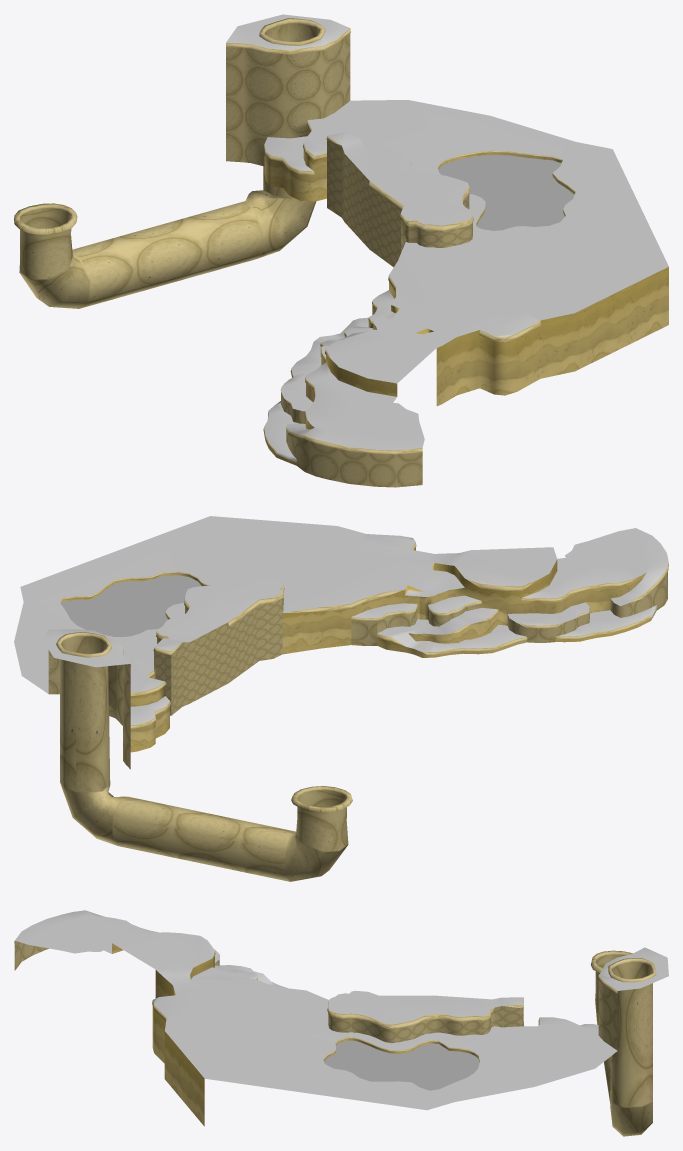
Rendered from huge mesh mesh.fbx.
The picture shows the model from 3 angles, top to bottom: view 1: azimuth 30°, elevation 25°; view 2: azimuth 150°, elevation 25°; view 3: azimuth 270°, elevation 25°; orthographic projection. The views are drawn at different scales.
Visible parts, largest first — view 1: polySurface70; view 2: polySurface70; view 3: polySurface70.
Part boxes in pixels (x1=…): polySurface70: x1=14, y1=14, x2=668, y2=487; polySurface70: x1=14, y1=516, x2=668, y2=881; polySurface70: x1=14, y1=910, x2=668, y2=1136.
Bounding box in the file's own units: 1.84 × 0.7209 × 2.42.
